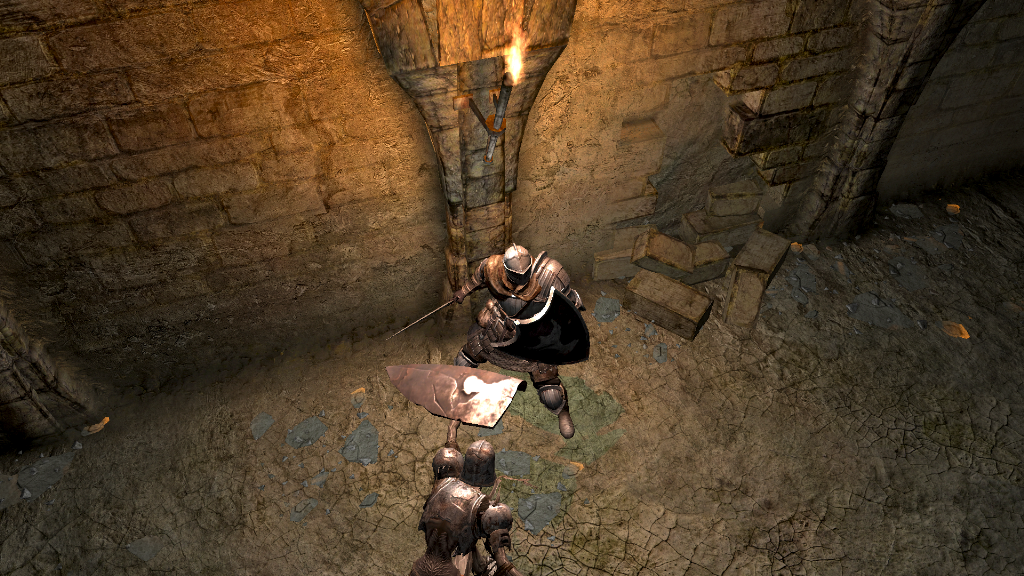player: (383, 241, 590, 439)
undeadSoldier: (380, 364, 524, 576)
